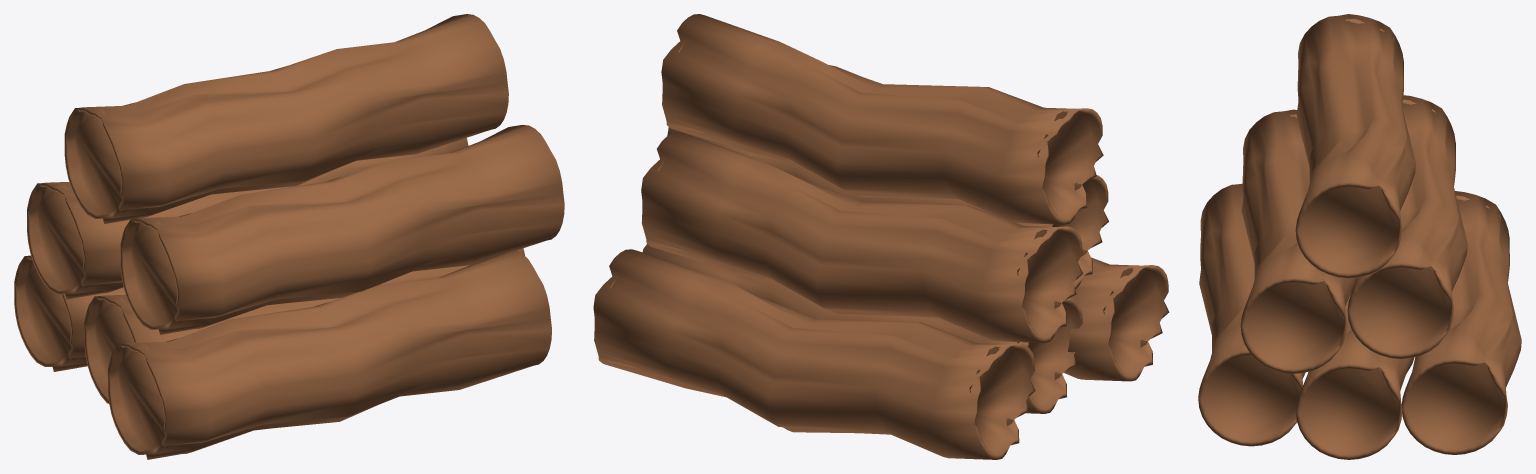
File: logStack.fbx
3 renders of one model, left to right at view 1: azimuth 30°, elevation 25°; view 2: azimuth 150°, elevation 25°; view 3: azimuth 270°, elevation 25°, orthographic. The views are drawn at different scales.
Parts seen in each view (by area): view 1: LogStack; view 2: LogStack; view 3: LogStack.
Part boxes in pixels (x1,y1,x2,y2): LogStack: (14, 14, 564, 459); LogStack: (593, 14, 1169, 459); LogStack: (1198, 14, 1521, 459).
Bounding box in the file's own units: 66.06 × 47.4 × 48.86.
